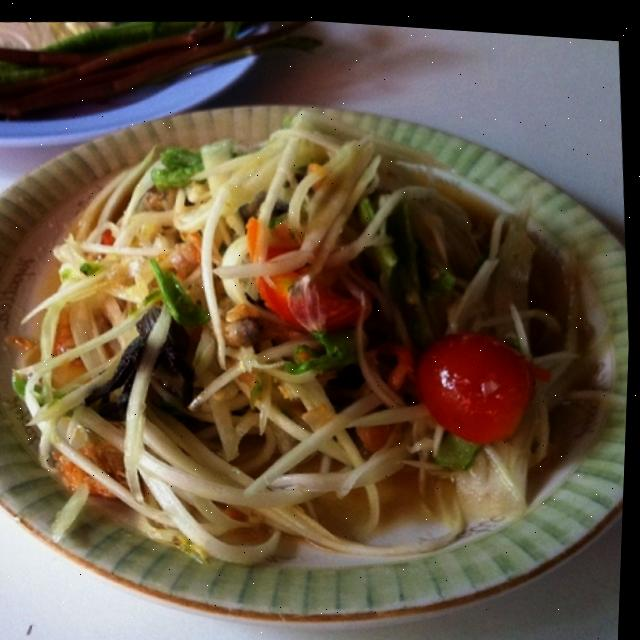蔬菜料理: (0, 58, 620, 625)
